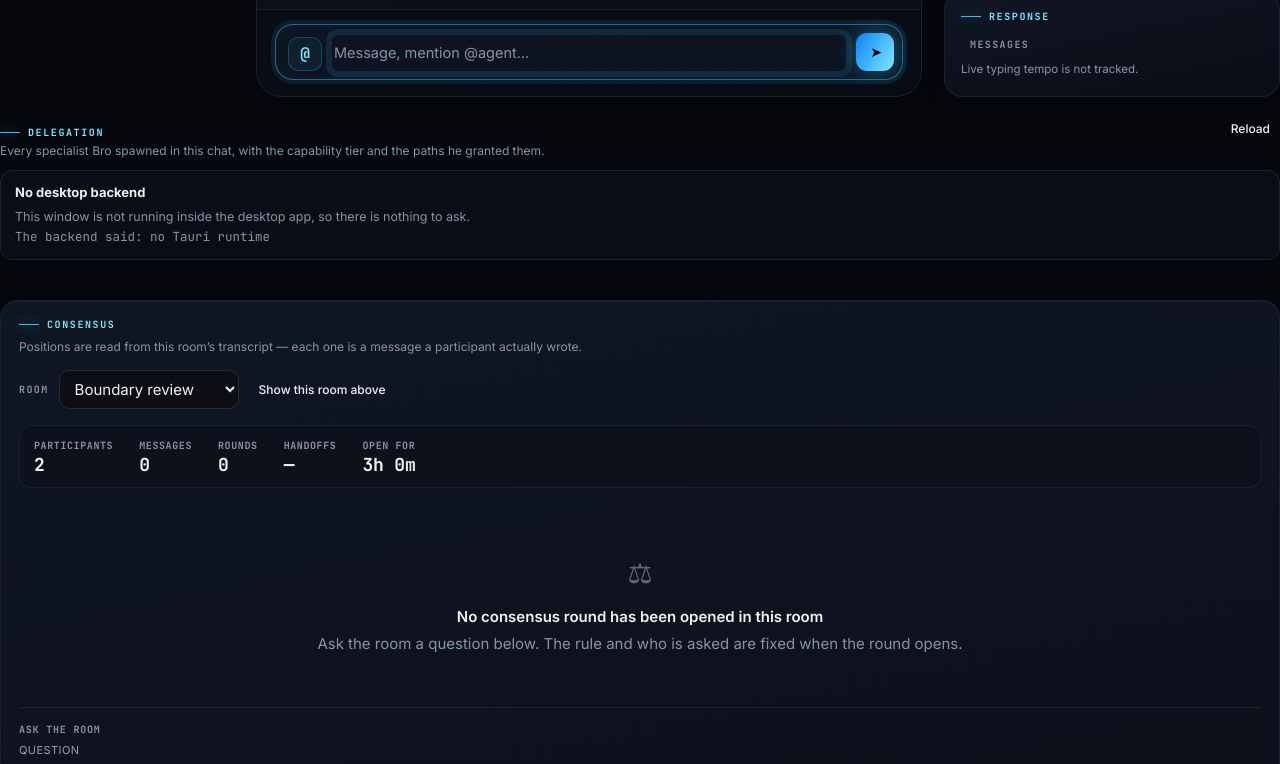
it: GroupChat — who gets asked is this room's roster, or nobody › while the new room's roster is still being read, nobody is offered and no round can be opened
(page scrolled)
Select "Release review" in the dropdown labelled "Room" at (149, 390), box [59,370,239,409]
(page scrolled)
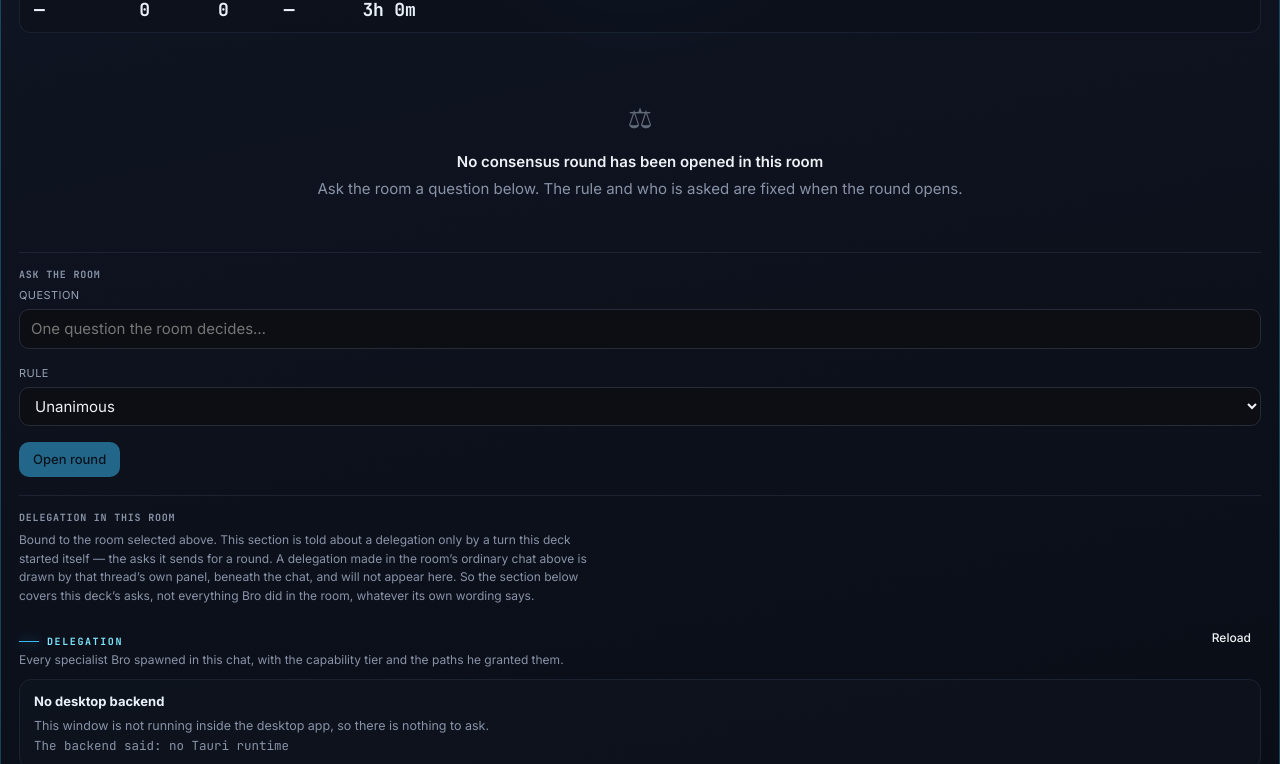
Result: the button "Open round" is disabled at [19,442,120,477]
